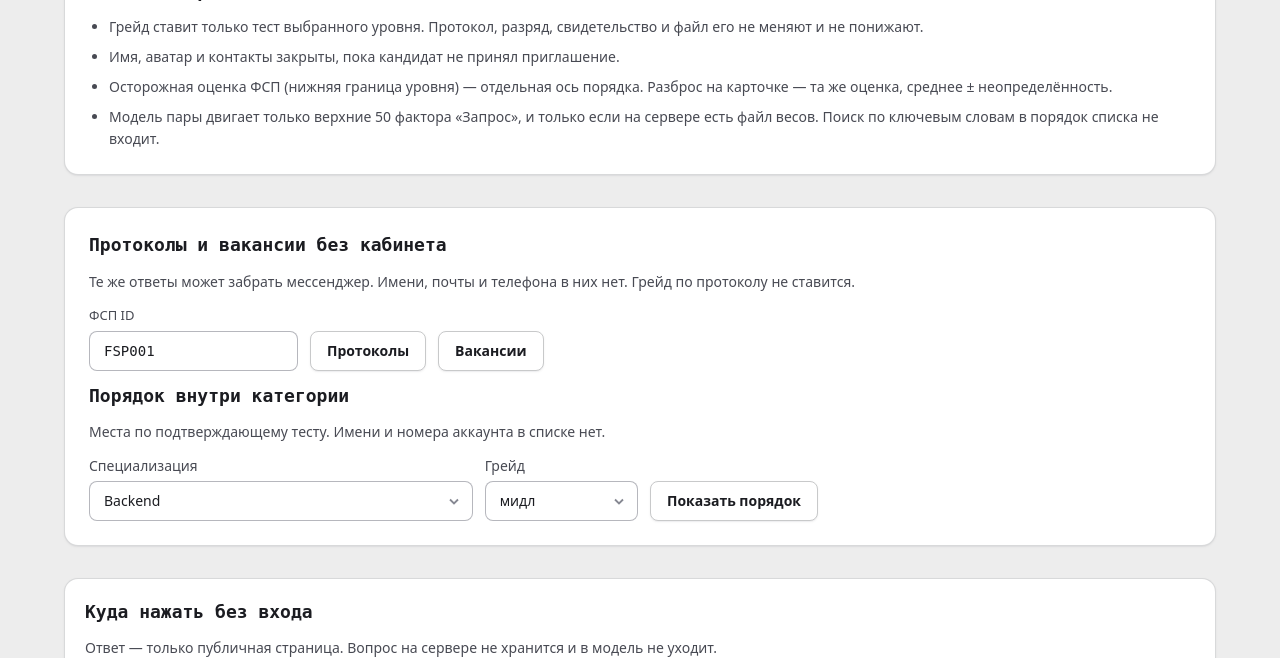
канал без кабинета › показывает протоколы по ФСП ID и не ставит грейд
The image size is (1280, 658).
(page scrolled)
Click the button "Протоколы": {"x": 368, "y": 351} [310, 331, 426, 371]
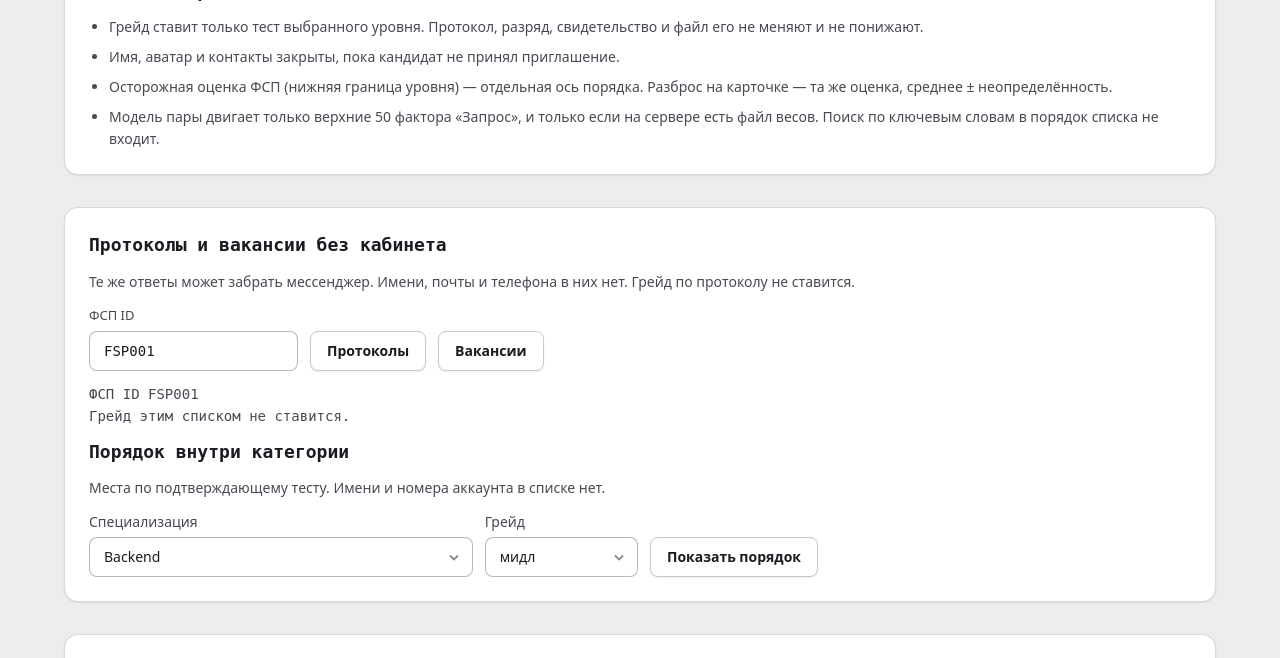
Now the message shows "не ставится", box [89, 386, 350, 424]
